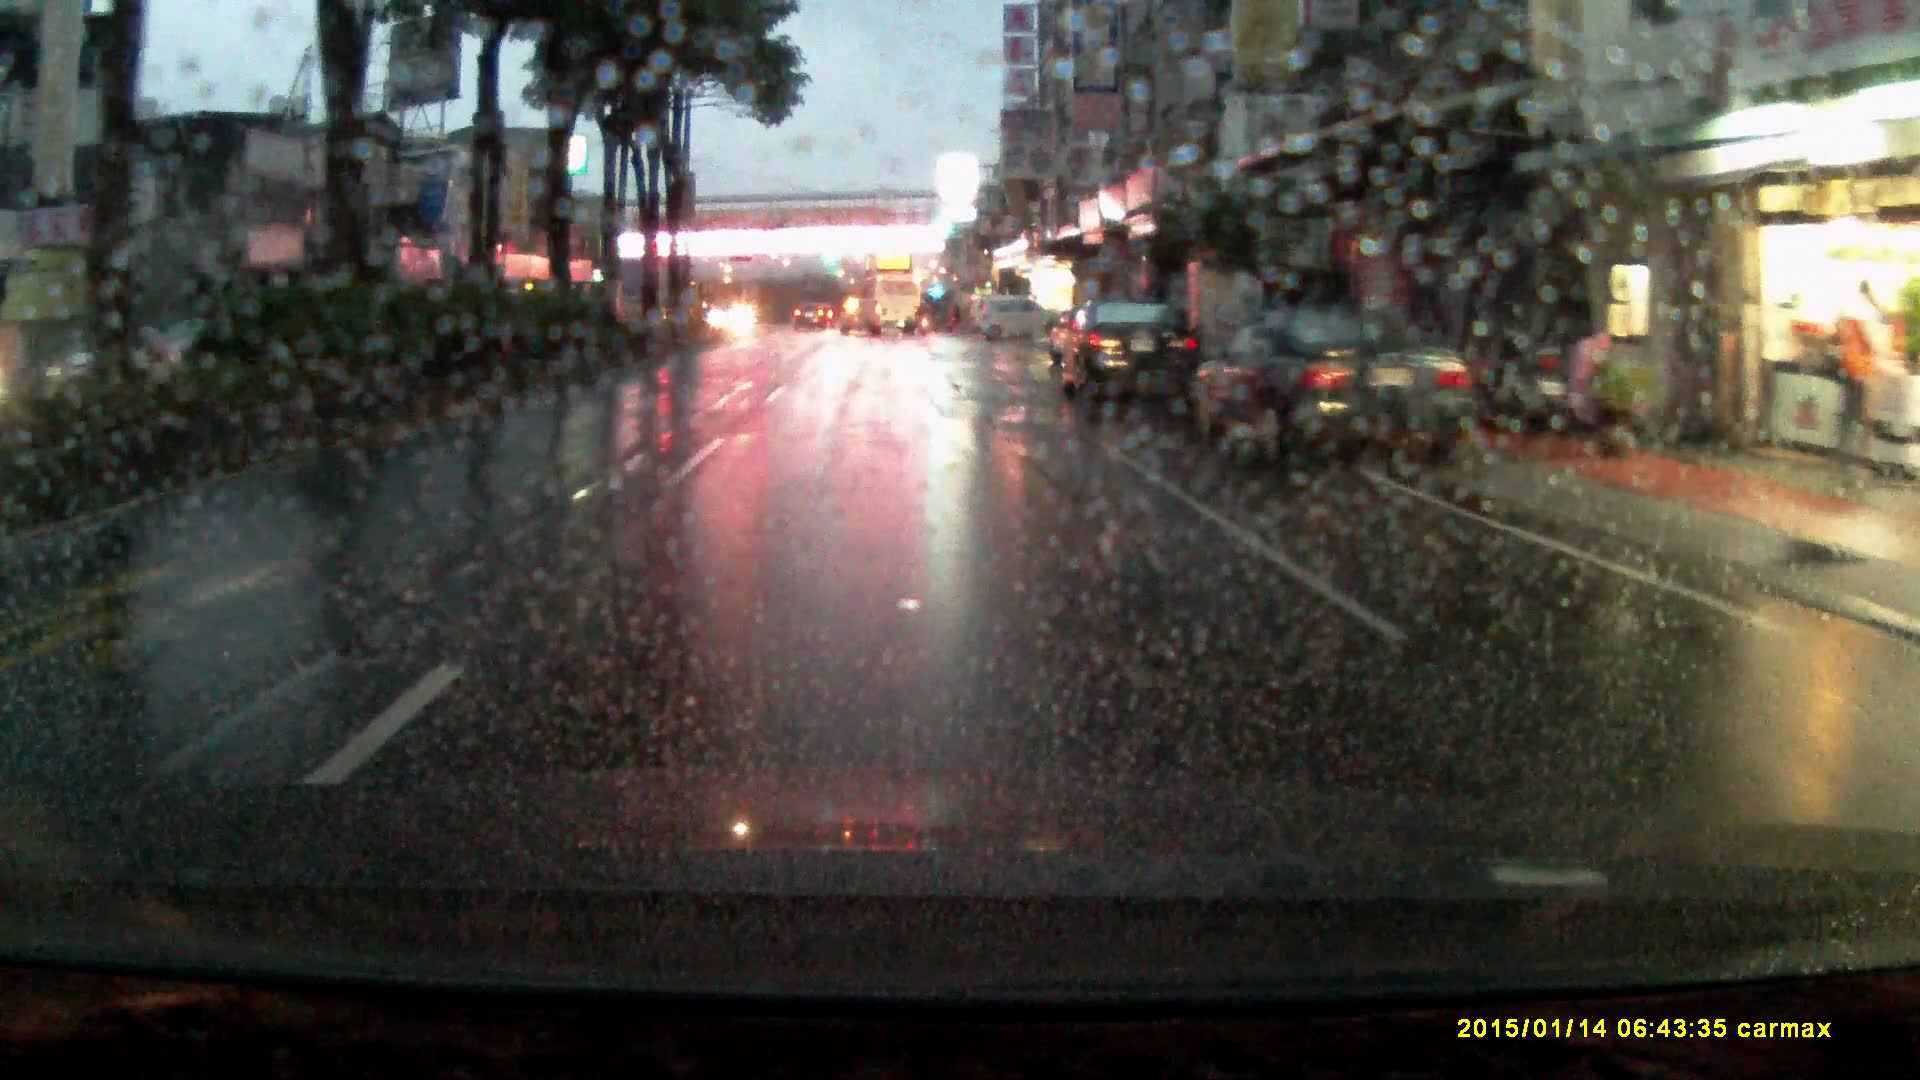vehicle: (1182, 305, 1495, 472), (1056, 291, 1208, 411), (46, 326, 195, 386), (976, 291, 1056, 343), (862, 269, 922, 332), (840, 295, 887, 338), (796, 301, 829, 330)
